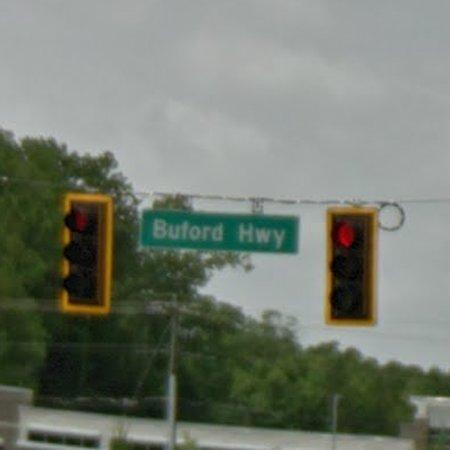traffic lights: (59, 193, 115, 314), (324, 204, 375, 327)
